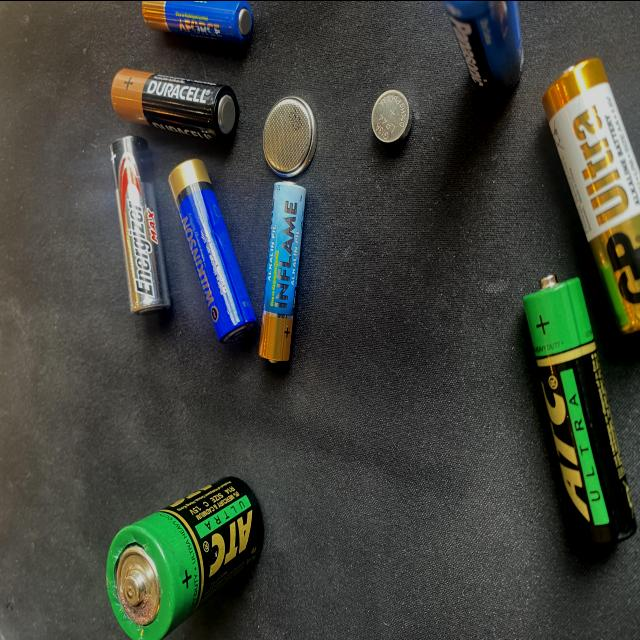AA: (519, 269, 640, 552), (536, 47, 640, 338), (165, 155, 261, 349), (106, 131, 173, 318), (109, 63, 241, 142), (256, 177, 307, 363)
COIN: (261, 92, 321, 178), (371, 88, 414, 144)
